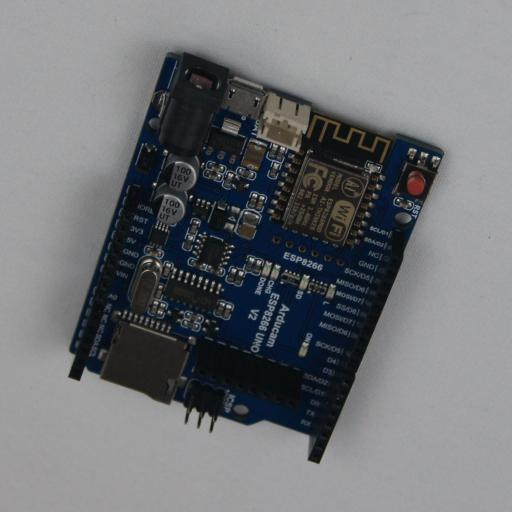Arduino Uno Camera Shield: (68, 50, 444, 464)
